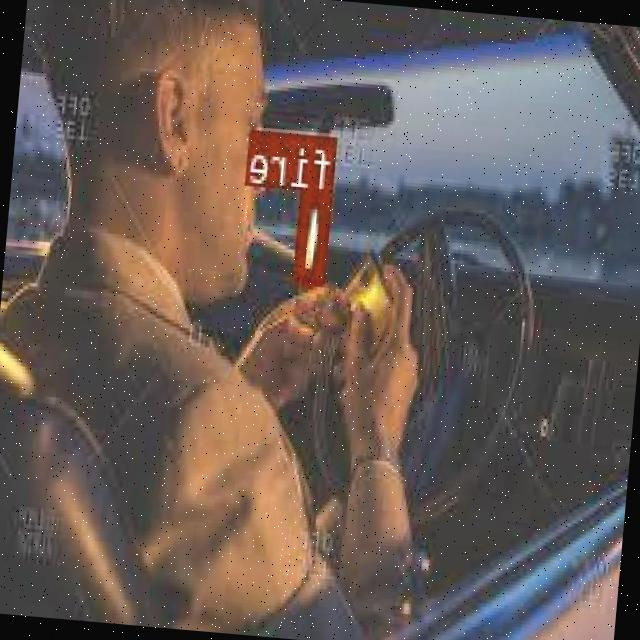fire: (296, 188, 334, 282)
